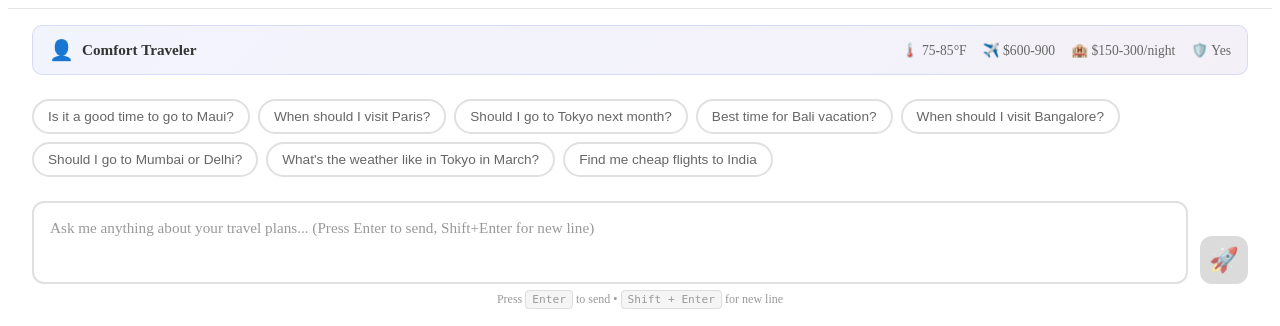
Scenario: ChatInput Component › Example Queries › focuses input after clicking example
Click the button "When should I visit Paris?" at (352, 116), box [258,99,446,134]
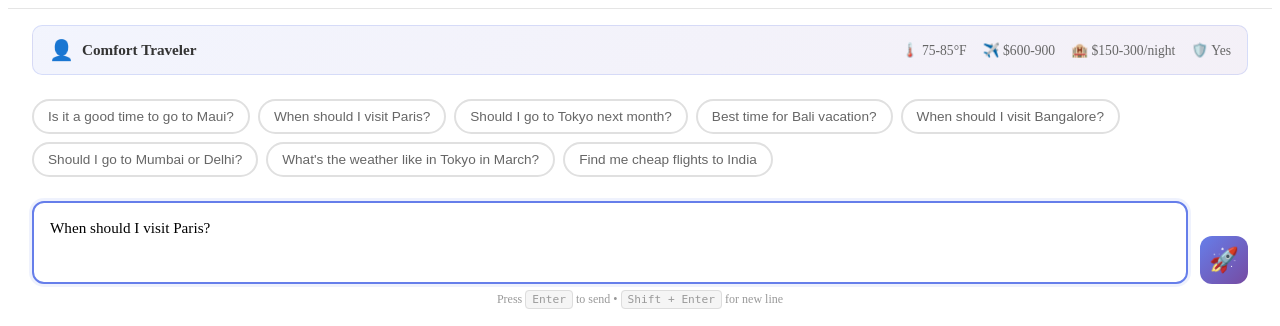
Check: the text box with placeholder "Ask me anything about your travel plans" holds "When should I visit Paris?", box [32,201,1188,284]
